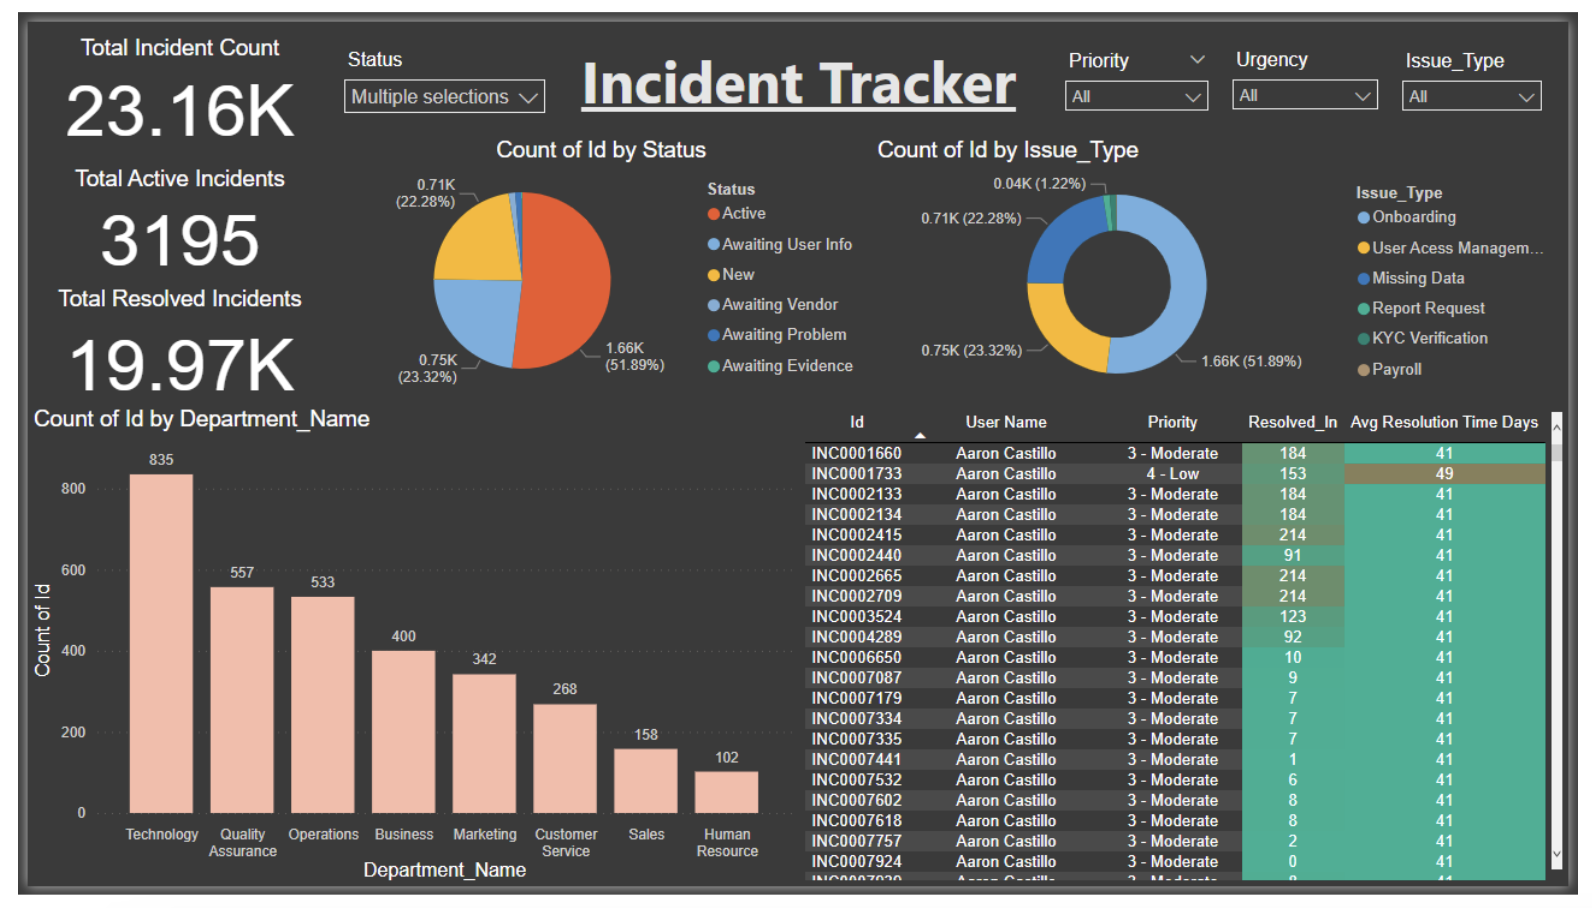

The dashboard page shown, as its layout file describes it:
{"tool":"powerbi","page":{"name":"Page 1","canvas":[1280,720],"ordinal":0},"visuals":[{"type":"card","title":"Total Incident Count","fields":{"Values":["Count(Incident.Id)"]},"box":[0,10.6,253.3,95.6],"z":0},{"type":"card","title":"Total Active Incidents","fields":{"Values":["Count(Incident.Id)"]},"box":[0,119.6,253.3,93],"z":1000},{"type":"card","title":"Total Resolved Incidents","fields":{"Values":["Count(Incident.Id)"]},"box":[0,219.6,253.3,100.1],"z":2000},{"type":"pieChart","fields":{"Y":["CountNonNull(Incident.Id)"],"Category":["Incident_Status.Status"]},"box":[253.1,95.7,447.2,223.6],"z":3000},{"type":"donutChart","fields":{"Y":["CountNonNull(Incident.Id)"],"Category":["Category.Issue_Type"]},"box":[700.5,95.6,579.2,224.1],"z":4000},{"type":"columnChart","fields":{"Category":["Department.Department_Name"],"Y":["CountNonNull(Incident.Id)"]},"box":[0,319.7,640.3,400.3],"z":5000},{"type":"tableEx","fields":{"Values":["Incident_Statistics.Id","Incident_Statistics.User Name","Incident_Statistics.Priority","Incident_Statistics.Resolved_In","Incident_Statistics.Avg Resolution Time Days"]},"box":[640.3,319.7,639.4,400.3],"z":6000},{"type":"slicer","fields":{"Values":["Incident_Statistics.Priority"]},"box":[852,18.6,139,66.4],"z":7000},{"type":"slicer","fields":{"Values":["Incident.Urgency"]},"box":[991.4,18.2,140.9,67.1],"z":8000},{"type":"slicer","fields":{"Values":["Category.Issue_Type"]},"box":[1132.3,19.2,136.1,66.2],"z":9000},{"type":"slicer","fields":{"Values":["Incident_Status.Status"]},"box":[253.3,17.7,186.9,66.4],"z":10000},{"type":"textbox","box":[449,10.6,382.6,75.3],"z":11000}]}

Visuals, with their boxes in screenshot pixels (x1, y1, x2, y2), scaled from the page's 1280x720 canvas onto the 1592x908 screenshot:
"Total Incident Count" card: [left=0, top=13, right=315, bottom=134]
"Total Active Incidents" card: [left=0, top=151, right=315, bottom=268]
"Total Resolved Incidents" card: [left=0, top=277, right=315, bottom=403]
pieChart - CountNonNull(Incident.Id) x Incident_Status.Status: [left=315, top=121, right=871, bottom=403]
donutChart - CountNonNull(Incident.Id) x Category.Issue_Type: [left=871, top=121, right=1591, bottom=403]
columnChart - Department.Department_Name x CountNonNull(Incident.Id): [left=0, top=403, right=796, bottom=907]
tableEx - Incident_Statistics.Id x Incident_Statistics.User Name: [left=796, top=403, right=1591, bottom=907]
slicer - Incident_Statistics.Priority: [left=1060, top=23, right=1233, bottom=107]
slicer - Incident.Urgency: [left=1233, top=23, right=1408, bottom=108]
slicer - Category.Issue_Type: [left=1408, top=24, right=1578, bottom=108]
slicer - Incident_Status.Status: [left=315, top=22, right=547, bottom=106]
textbox: [left=558, top=13, right=1034, bottom=108]
